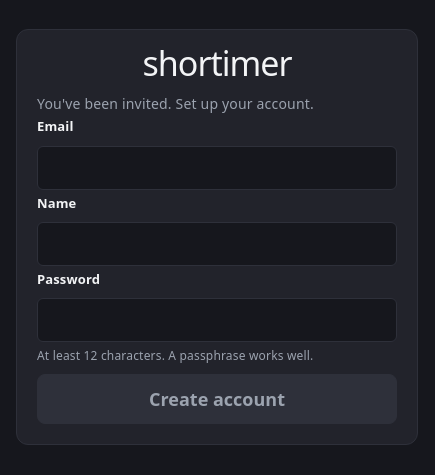
Test case: redeeming an invite › reports a refused registration
This screenshot has width=435, height=475.
Type "new@example.com" into the field labelled "Email". click: [217, 168]
box: [37, 146, 397, 190]
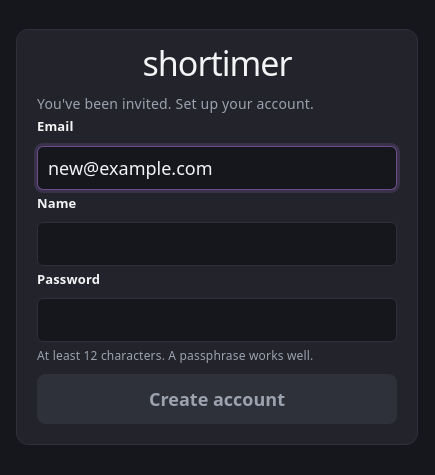
Type "a-long-enough-password" into the password field labelled "Password At least 12 characters. A passphrase works well.". click: [217, 320]
box: [37, 298, 397, 342]
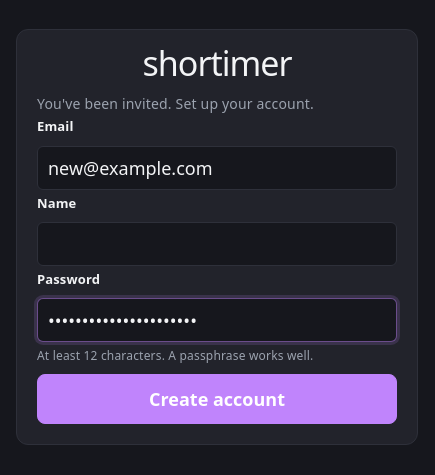
Click the button "Create account". click: [217, 399]
box: [37, 374, 397, 424]
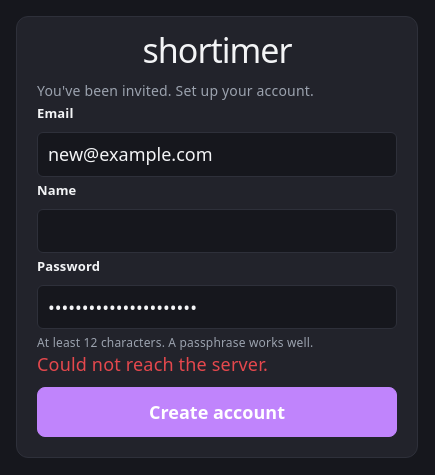
Result: the text "Could not reach the server." is shown at [37, 352, 268, 376]
